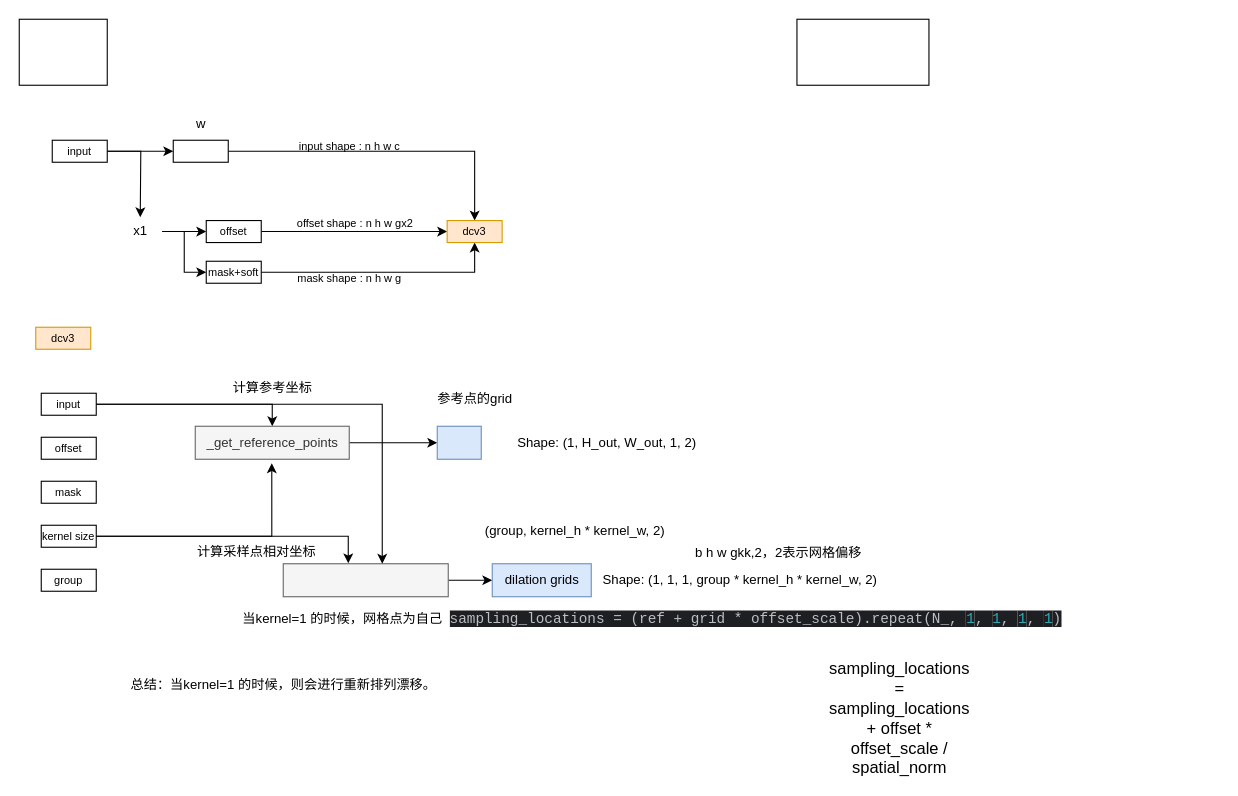
The diagram is 1238 pixels wide and 796 high, and some of its shapes have lost their labels. The box of each missing label's shape, as (x1, y1, x2, y2) in pixels:
_generate_dilation_grids: (282, 563, 448, 597)
input_proj: (172, 139, 228, 162)
ref: (436, 425, 481, 459)
